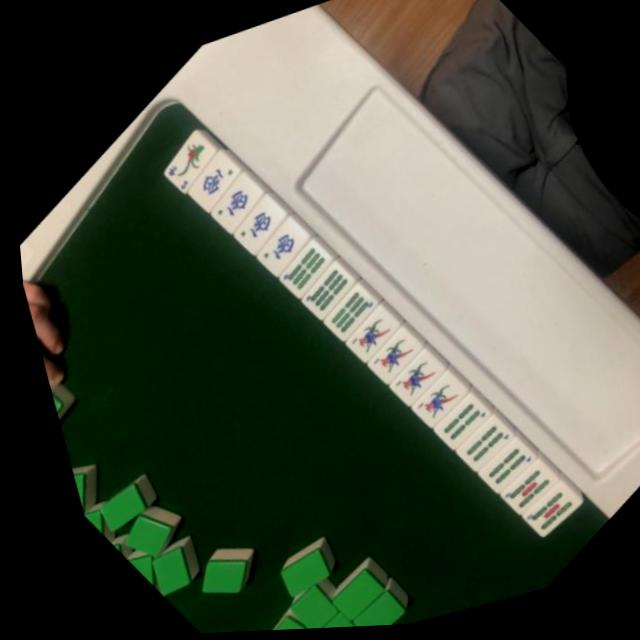bf2: (144, 121, 220, 191)
hww: (217, 188, 288, 254), (171, 145, 242, 210), (193, 168, 262, 231), (240, 212, 308, 274)
sb1: (350, 322, 419, 387), (330, 300, 398, 364), (371, 346, 440, 409), (398, 370, 462, 430)
sb4: (418, 389, 490, 455), (441, 411, 512, 477), (466, 436, 532, 496)
sb5: (504, 476, 577, 543), (483, 456, 554, 522)
sb6: (260, 232, 333, 297), (308, 278, 378, 342), (285, 258, 352, 317)
